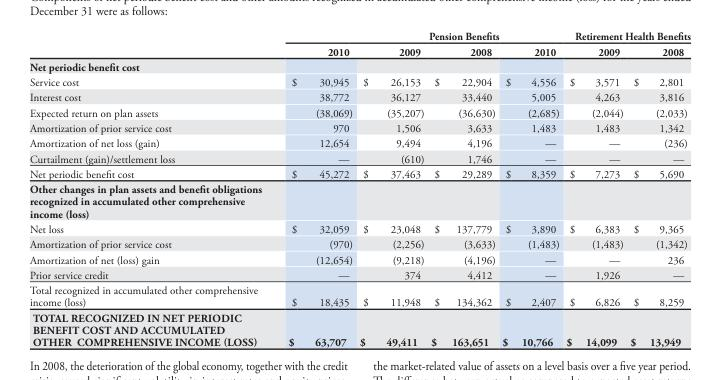table: (28, 29, 690, 348)
table column: (28, 29, 272, 348), (272, 29, 355, 348), (426, 29, 500, 348), (355, 29, 426, 348), (562, 29, 626, 348), (626, 29, 690, 348), (500, 29, 562, 348)
table column header: (28, 29, 690, 58)
table projected row header: (28, 181, 690, 220), (28, 58, 690, 74)
table row: (28, 181, 690, 220), (28, 310, 690, 348), (28, 282, 690, 310), (28, 58, 690, 74), (28, 104, 690, 120), (28, 150, 690, 166), (28, 220, 690, 236), (28, 251, 690, 267), (28, 43, 690, 58), (28, 74, 690, 89), (28, 89, 690, 104), (28, 120, 690, 135), (28, 135, 690, 150), (28, 166, 690, 181), (28, 236, 690, 251), (28, 267, 690, 282), (28, 29, 690, 43)
table spanning cell: (272, 29, 500, 43), (500, 29, 690, 43)
